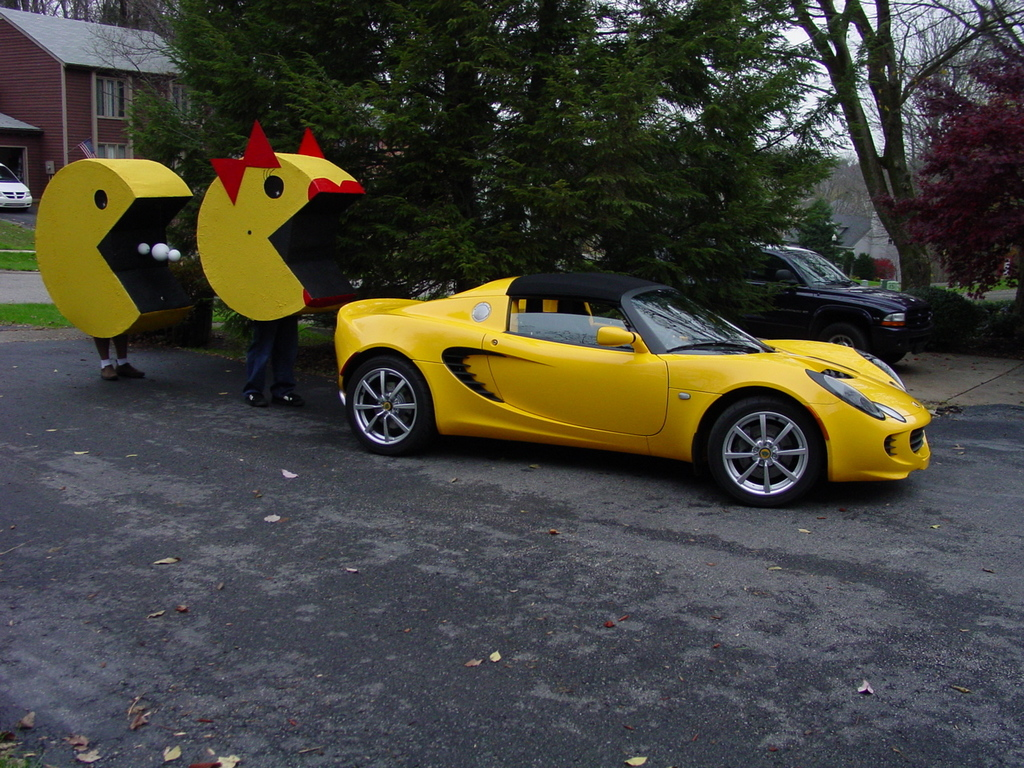Car: (335, 271, 937, 511), (580, 241, 936, 367), (0, 159, 32, 212)
